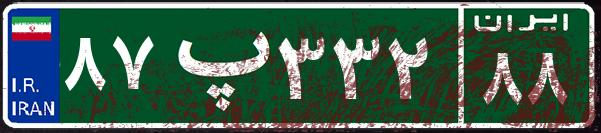2: (385, 28, 445, 110)
3: (273, 28, 330, 110), (330, 28, 385, 110)
7: (110, 28, 158, 105)
8: (57, 26, 110, 107), (475, 38, 525, 113), (525, 38, 570, 115)
پ: (158, 15, 273, 115)
